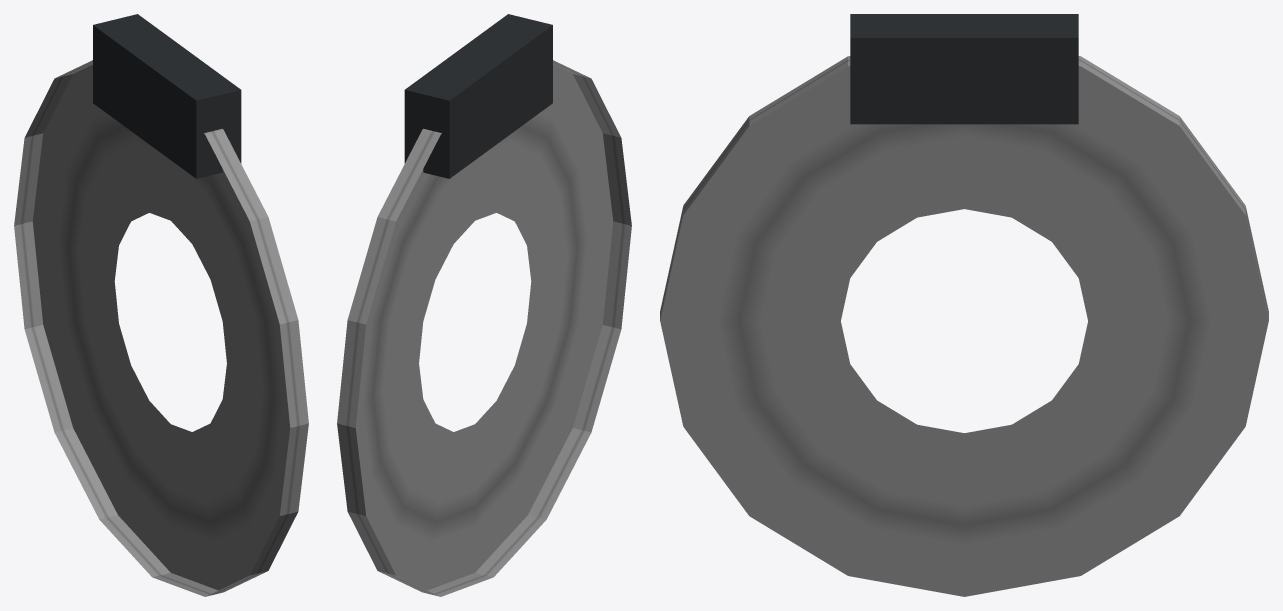
File: brake_02_stock_vented.obj
3 views of the same model, side by side, from view 1: azimuth 30°, elevation 25°; view 2: azimuth 150°, elevation 25°; view 3: azimuth 270°, elevation 25° (orthographic). The views are drawn at different scales.
Visible parts, largest first — view 1: brake_02_stock_vented; view 2: brake_02_stock_vented; view 3: brake_02_stock_vented.
Boxes of the visible parts, left/top/right/bottom form: brake_02_stock_vented: left=14, top=14, right=308, bottom=596; brake_02_stock_vented: left=337, top=14, right=631, bottom=596; brake_02_stock_vented: left=660, top=14, right=1268, bottom=596.
Bounding box in the file's own units: 0.0375 × 0.4125 × 0.4.
